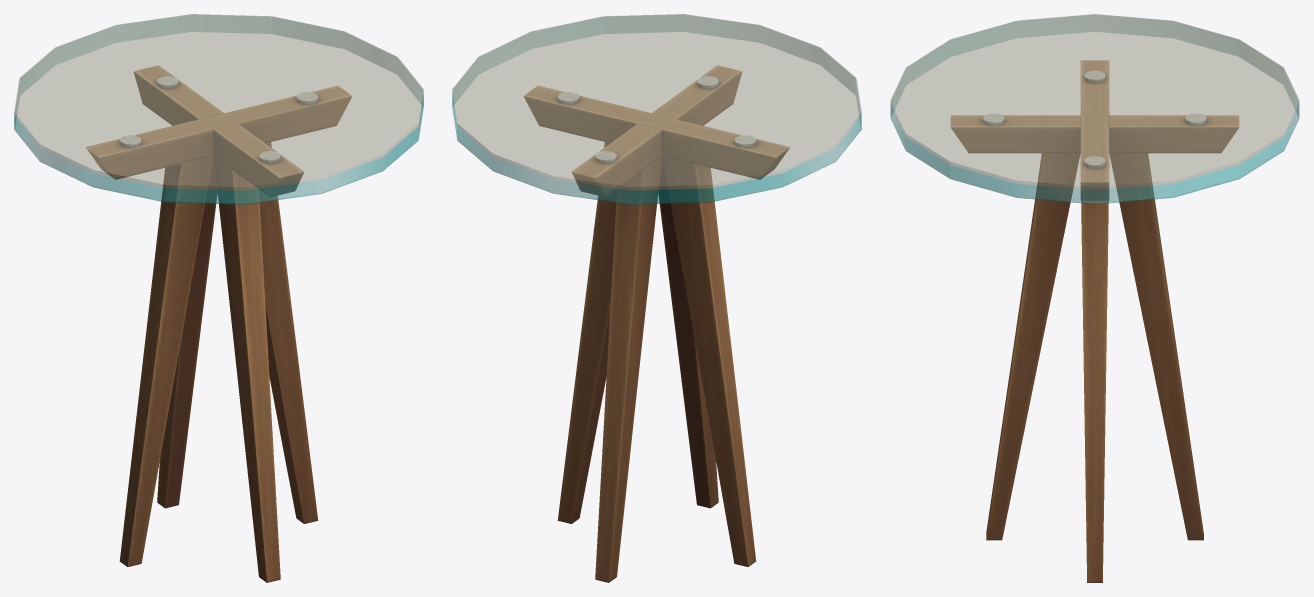
Rendered from 轨道高脚餐桌.glb.
3 renders of one model, left to right at view 1: azimuth 30°, elevation 25°; view 2: azimuth 150°, elevation 25°; view 3: azimuth 270°, elevation 25°, orthographic.
Visible parts, largest first — view 1: s4studio_mesh_2.005_34, TinyLiving_OrbitalHighDining_35; view 2: s4studio_mesh_2.005_34, TinyLiving_OrbitalHighDining_35; view 3: s4studio_mesh_2.005_34, TinyLiving_OrbitalHighDining_35.
Part boxes in pixels (x1,y1,x2,y2): s4studio_mesh_2.005_34: (14,14,423,204); TinyLiving_OrbitalHighDining_35: (85,65,352,582); s4studio_mesh_2.005_34: (452,14,861,204); TinyLiving_OrbitalHighDining_35: (523,65,790,582); s4studio_mesh_2.005_34: (890,14,1299,204); TinyLiving_OrbitalHighDining_35: (950,60,1239,582).
Bounding box in the file's own units: 0.8502 × 0.9998 × 0.8502.
Materials: 2 (2 with a texture image).
